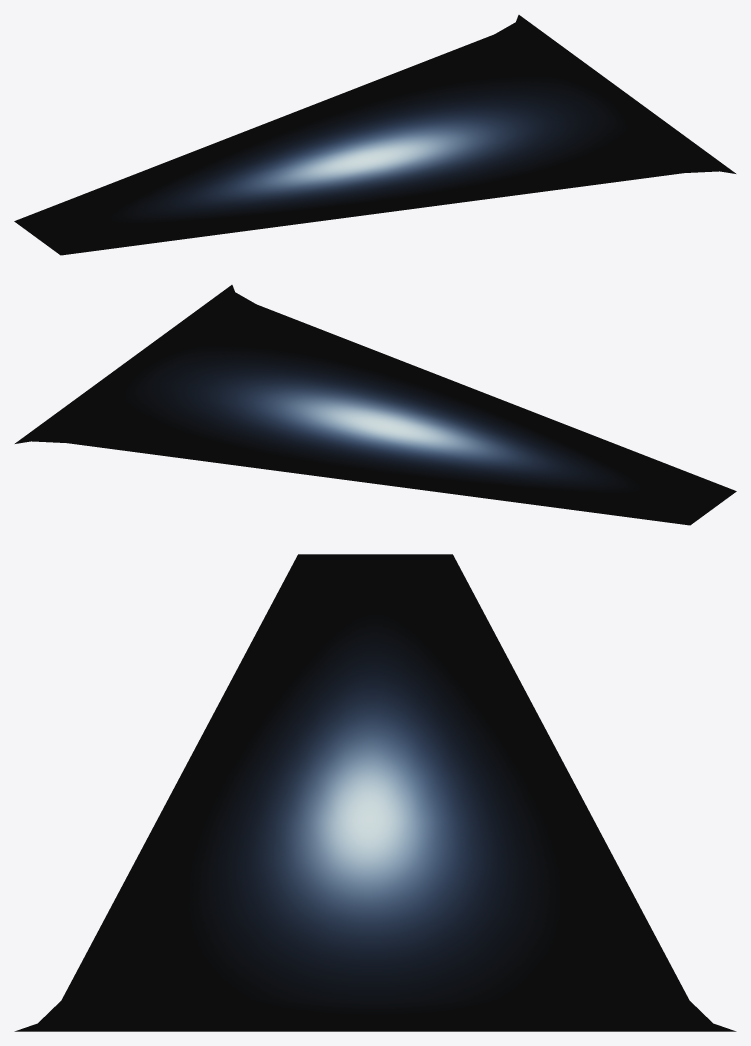
File: plan_02.fbx
3 renders of one model, top to bottom at view 1: azimuth 30°, elevation 25°; view 2: azimuth 150°, elevation 25°; view 3: azimuth 270°, elevation 25°, orthographic. The views are drawn at different scales.
Visible parts, largest first — view 1: Plane002; view 2: Plane002; view 3: Plane002.
Boxes of the visible parts, x1,y1,x2,y2 form: Plane002: [14, 15, 735, 255]; Plane002: [15, 285, 736, 525]; Plane002: [14, 554, 736, 1031].
Size of the model in its own units: 356 by 1.4e-14 by 228.
